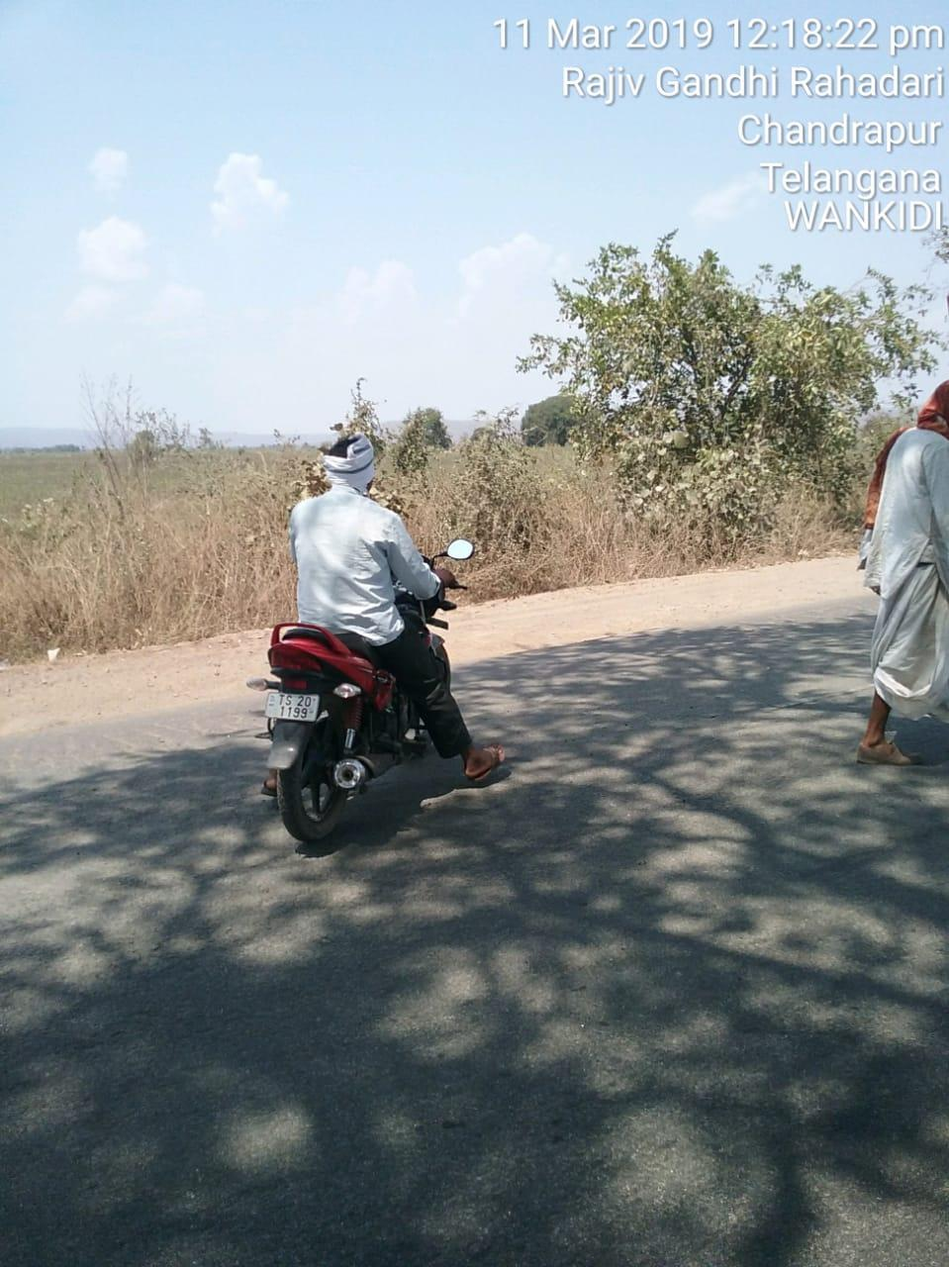plate: (259, 686, 323, 727)
